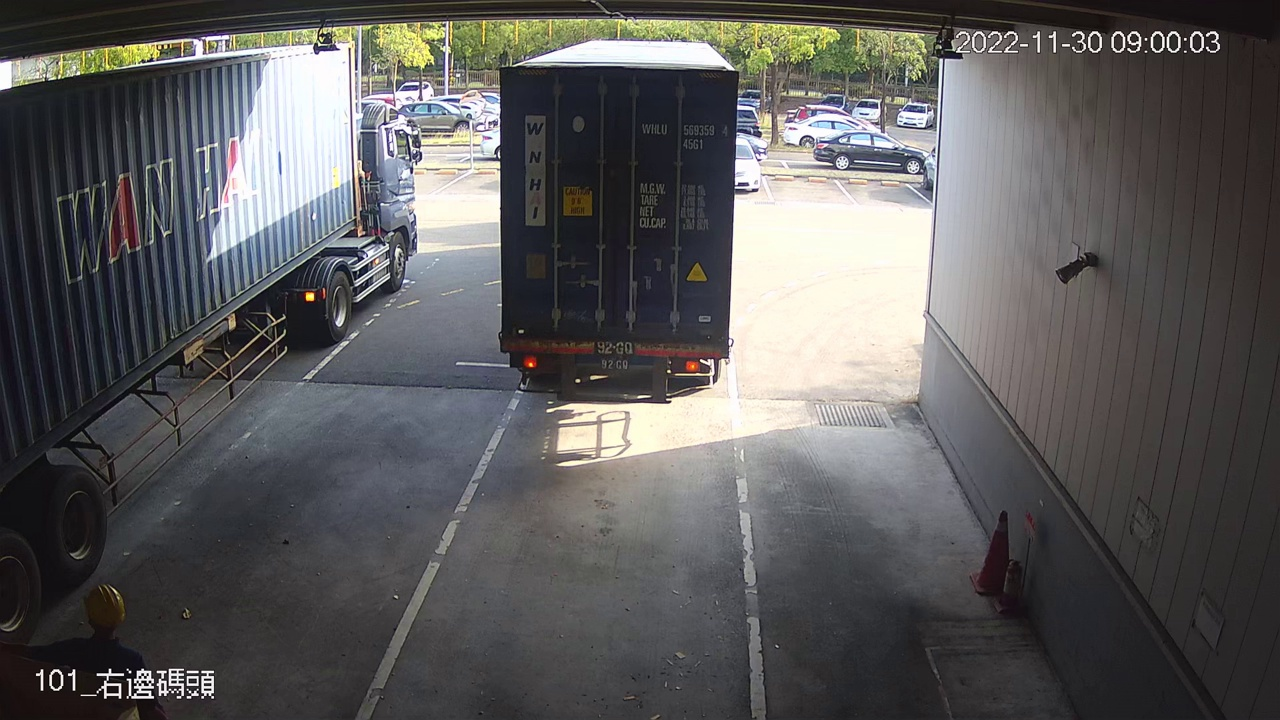container: (636, 115, 731, 155)
